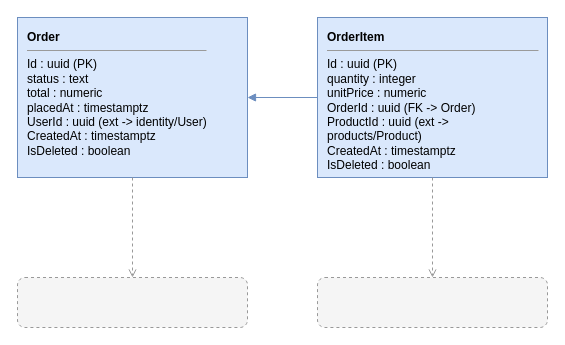
The diagram is 565 pixels wide and 345 high, and some of its shapes have lost their labels. The box of each missing label's shape, as (x1, y1, x2, y2) in pixels:
identity/User (dış servis): (16, 276, 248, 328)
products/Product (dış servis): (316, 276, 548, 328)
